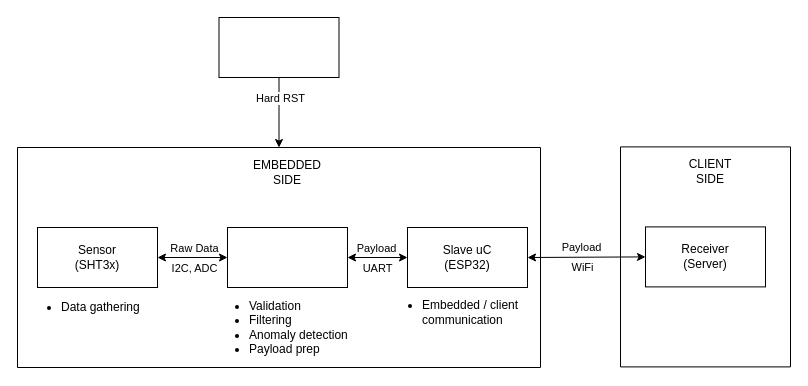
Some shapes in this 808 by 386 pixel diagram are drawn without their labels. Each missing label, with the centre of its shape:
"IWDG" goes at [278,47].
"Master uC (STM32U5)" goes at [287,257].
